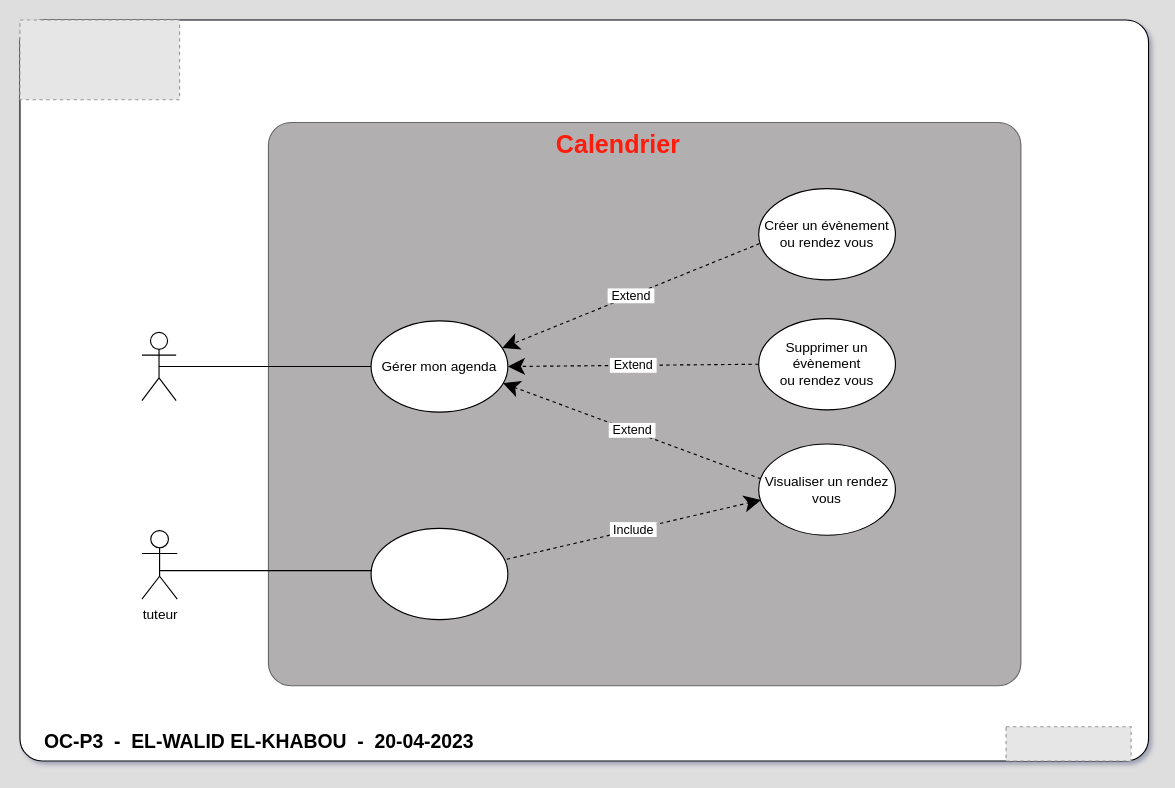
Image size: 1175x788. Some labels were removed from this diagram. Grey dashed boxes stand in for pictures. Each missing label, with the centre of its shape:
"Donner un rendez-vous" belongs at point (439, 573).
"éléve" belongs at point (158, 366).
